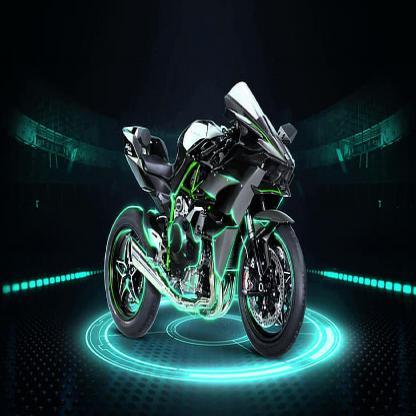Motorcycle: (97, 81, 316, 354)
